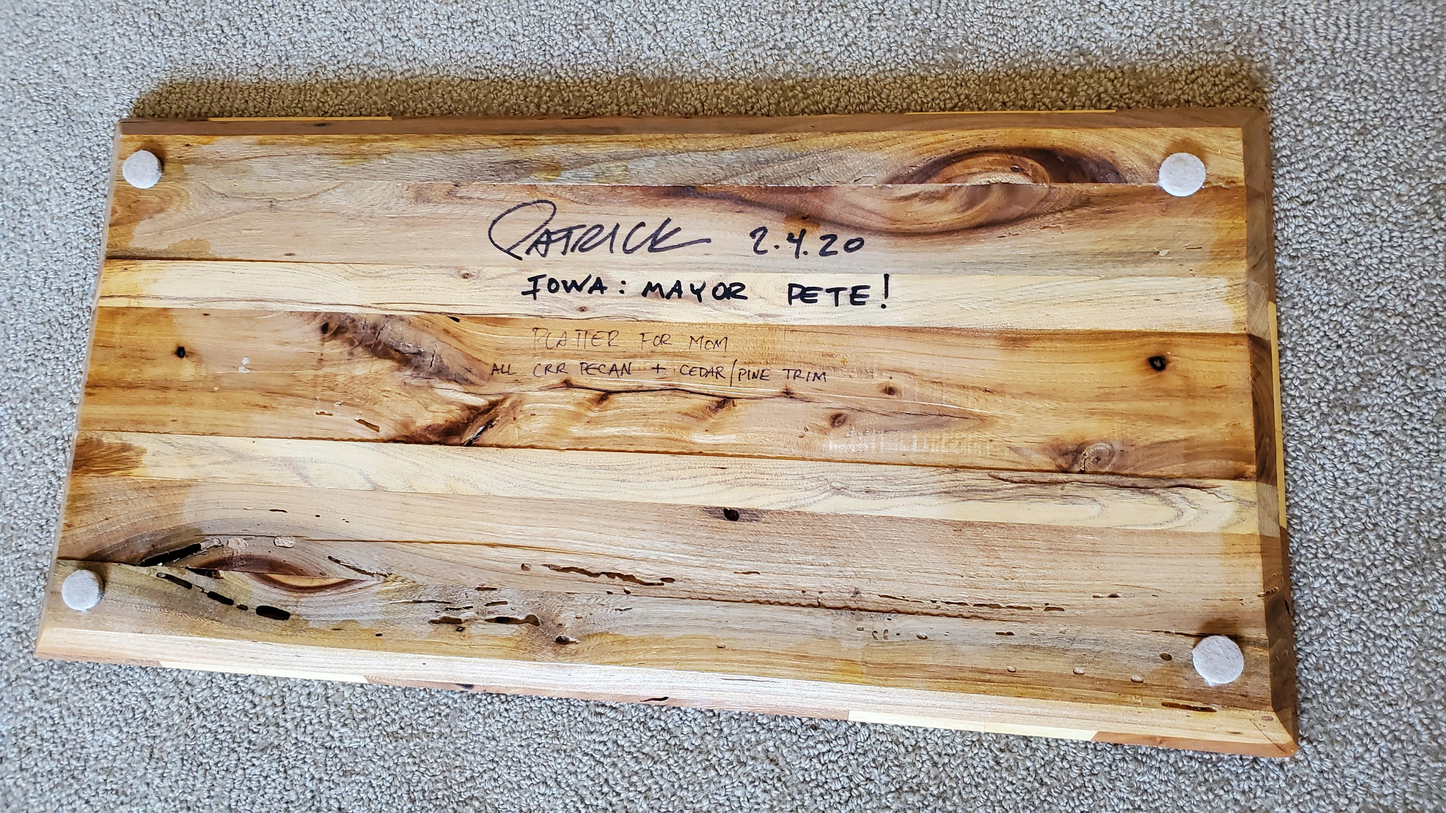gloved_hand: (34, 94, 1311, 762)
